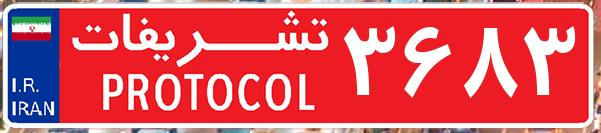3: (340, 20, 400, 115), (520, 20, 580, 115)
6: (400, 20, 460, 115)
8: (460, 20, 520, 115)
تشریفات: (60, 8, 340, 125)
